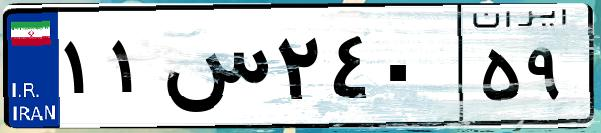0: (385, 28, 445, 110)
1: (57, 26, 110, 100), (110, 28, 158, 98)
2: (270, 28, 330, 110)
4: (330, 28, 385, 110)
5: (475, 38, 525, 113)
9: (525, 38, 570, 115)
س: (158, 20, 270, 120)
